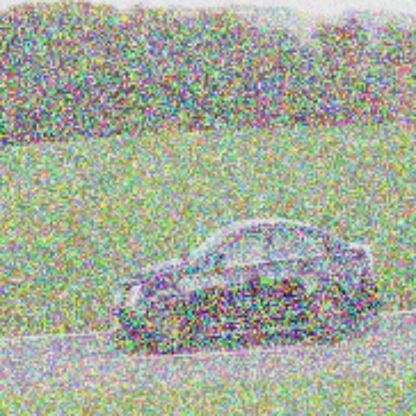Vehicle: (110, 218, 380, 352)
